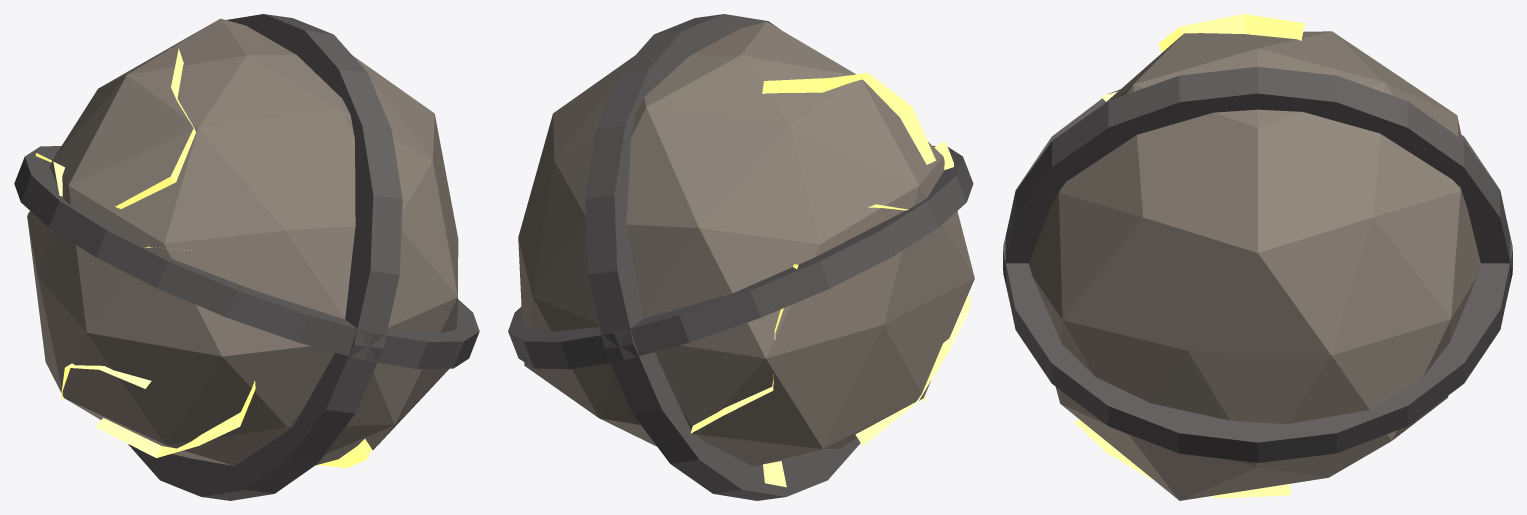
File: boulder_components.glb
3 renders of one model, left to right at view 1: azimuth 30°, elevation 25°; view 2: azimuth 150°, elevation 25°; view 3: azimuth 270°, elevation 25°, orthographic. The views are drawn at different scales.
Visible parts, largest first — view 1: Boulder_Rock, Boulder_Bands, Boulder_Cracks; view 2: Boulder_Rock, Boulder_Bands, Boulder_Cracks; view 3: Boulder_Rock, Boulder_Bands, Boulder_Cracks.
Boxes of the visible parts, <box> form: Boulder_Rock: <box>27,18,458,465</box>; Boulder_Bands: <box>14,14,479,500</box>; Boulder_Cracks: <box>29,48,371,467</box>; Boulder_Rock: <box>518,21,974,466</box>; Boulder_Bands: <box>508,14,973,500</box>; Boulder_Cracks: <box>690,73,970,487</box>; Boulder_Rock: <box>1029,31,1480,500</box>; Boulder_Bands: <box>1003,66,1512,462</box>; Boulder_Cracks: <box>1074,14,1304,498</box>.
Bounding box in the file's own units: 4.31 × 4.43 × 4.59.
